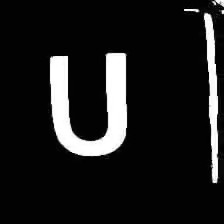LTR_U: (42, 41, 135, 161)
